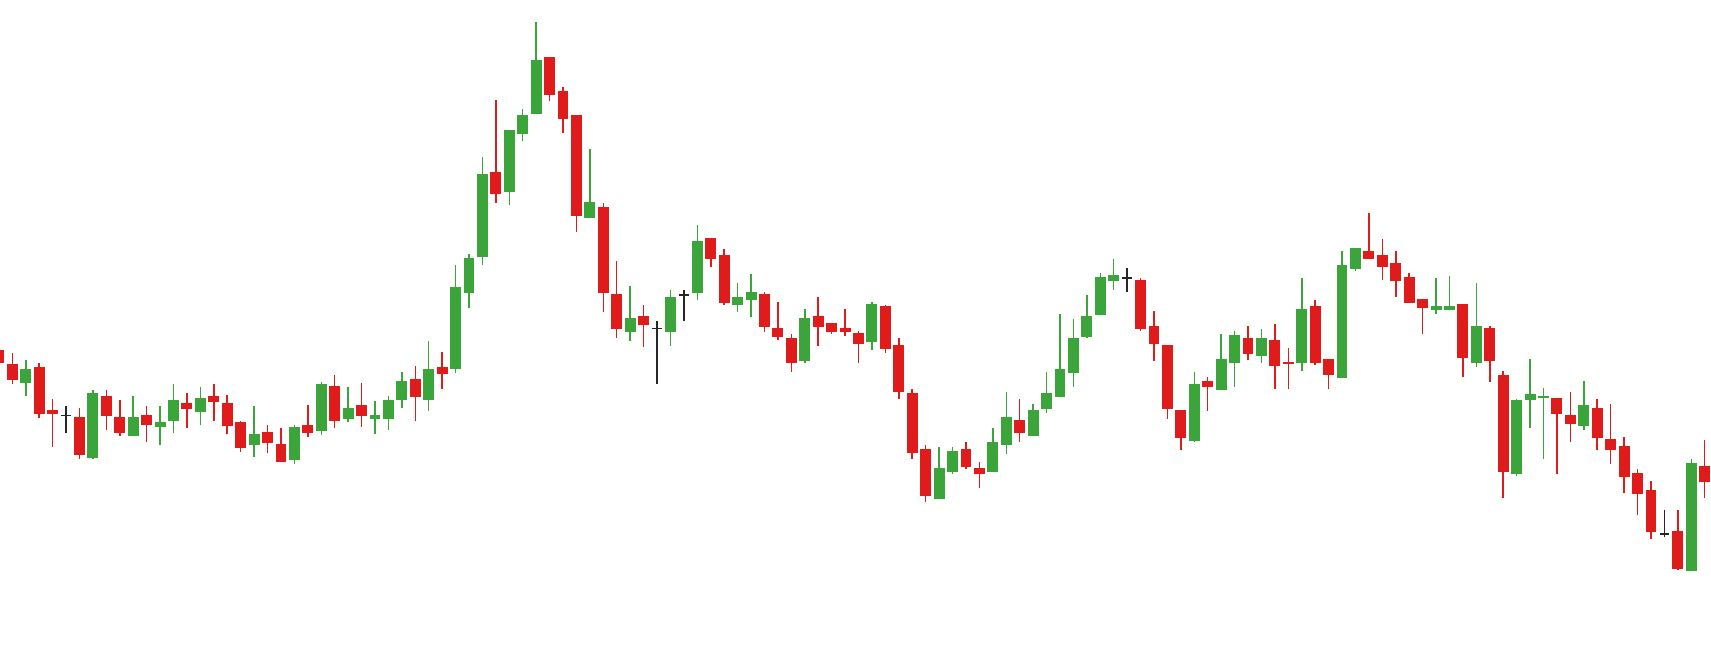sell: (1294, 207, 1404, 325)
